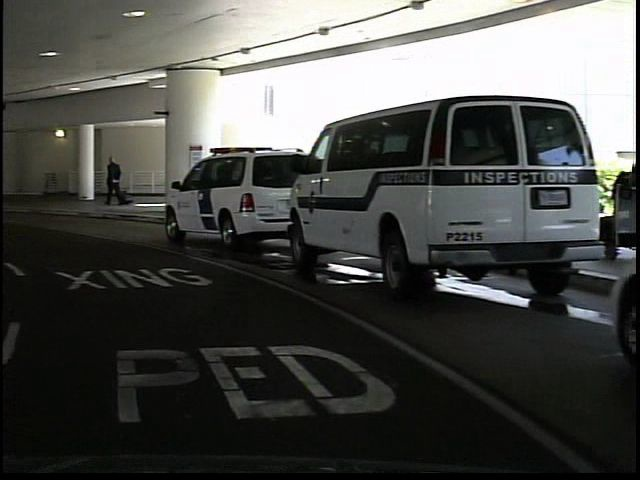person: (100, 151, 125, 210)
